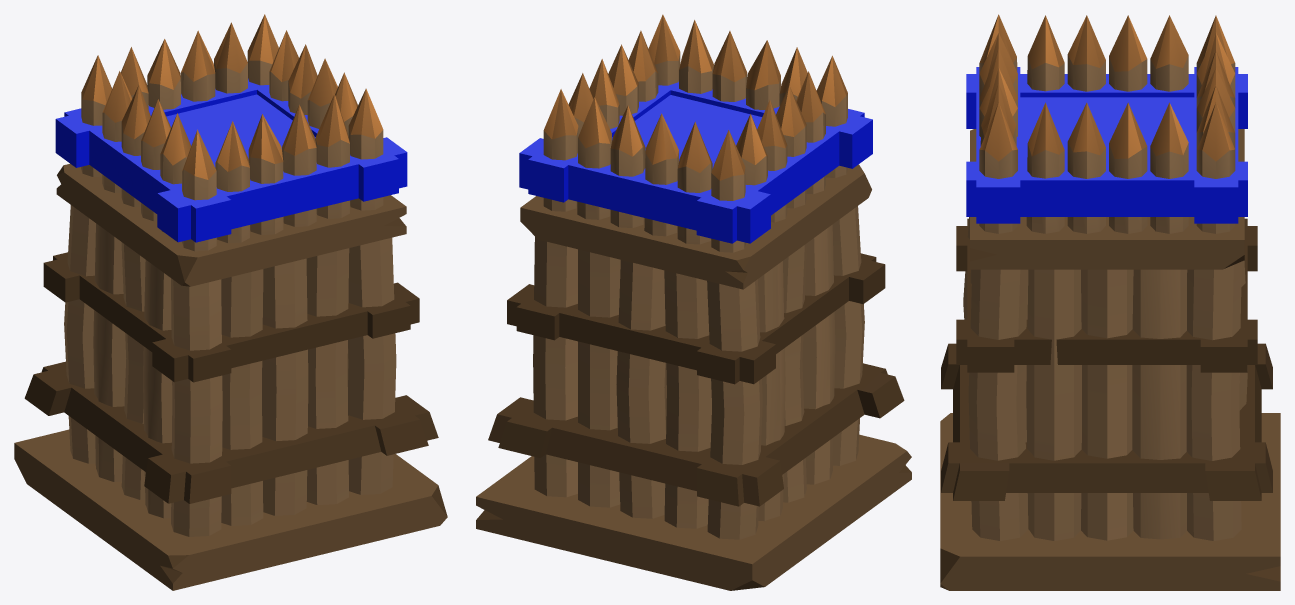
The model's file is Tower2.fbx.
3 views of the same model, side by side, from view 1: azimuth 30°, elevation 25°; view 2: azimuth 150°, elevation 25°; view 3: azimuth 270°, elevation 25° (orthographic). The views are drawn at different scales.
Visible parts, largest first — view 1: Tower2; view 2: Tower2; view 3: Tower2.
Part boxes in pixels (left/top/right/bottom): Tower2: left=14, top=14, right=447, bottom=590; Tower2: left=476, top=14, right=911, bottom=590; Tower2: left=940, top=14, right=1280, bottom=590.
Bounding box in the file's own units: 400 × 600 × 400.
